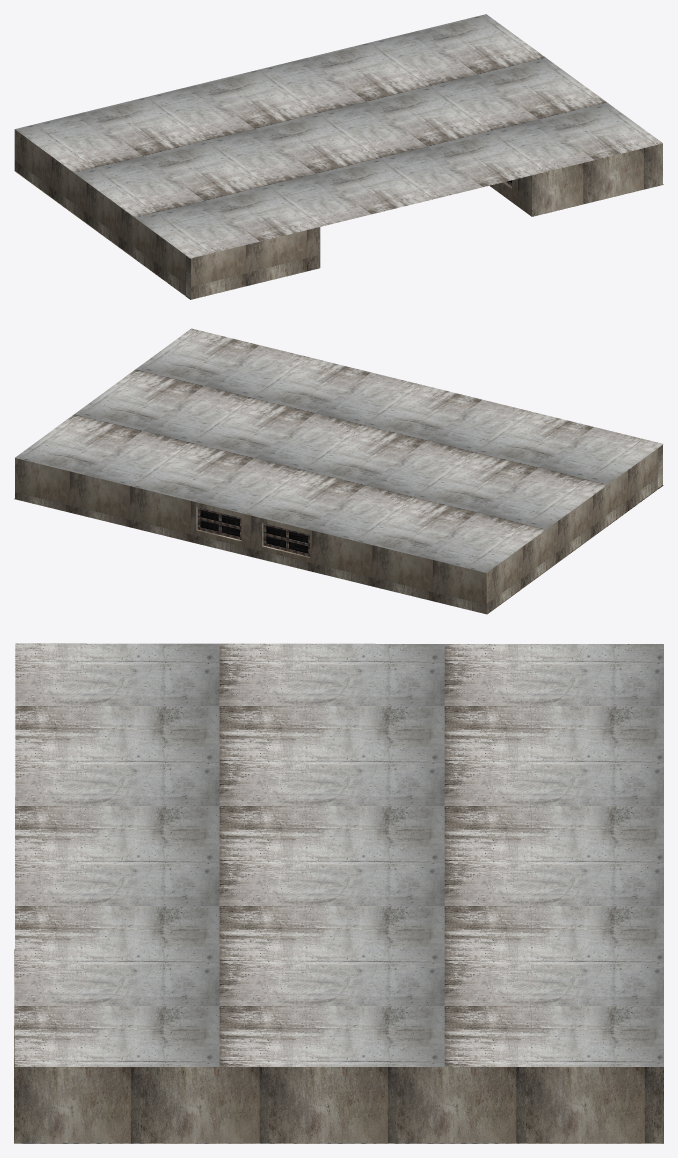
The model's file is 3flOLD.fbx.
The picture shows the model from 3 angles, top to bottom: view 1: azimuth 30°, elevation 25°; view 2: azimuth 150°, elevation 25°; view 3: azimuth 270°, elevation 25°; orthographic projection. The views are drawn at different scales.
Parts seen in each view (by area): view 1: потолок, Стены; view 2: потолок, Стены, окно.006, окно.002; view 3: потолок, Стены, Пол.
Part boxes in pixels (x1,y1,x2,y2): потолок: (15,14,662,258); Стены: (14,129,662,299); потолок: (15,328,663,572); Стены: (15,445,662,614); окно.006: (263,523,309,556); окно.002: (197,507,241,539); потолок: (14,643,663,1066); Стены: (14,949,663,1142); Пол: (14,1026,663,1143).
Bounding box in the file's own units: 2998 × 251 × 1941.
